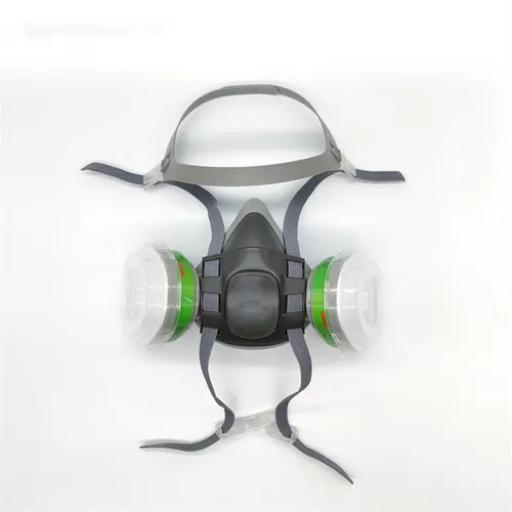mask: (108, 212, 417, 402)
